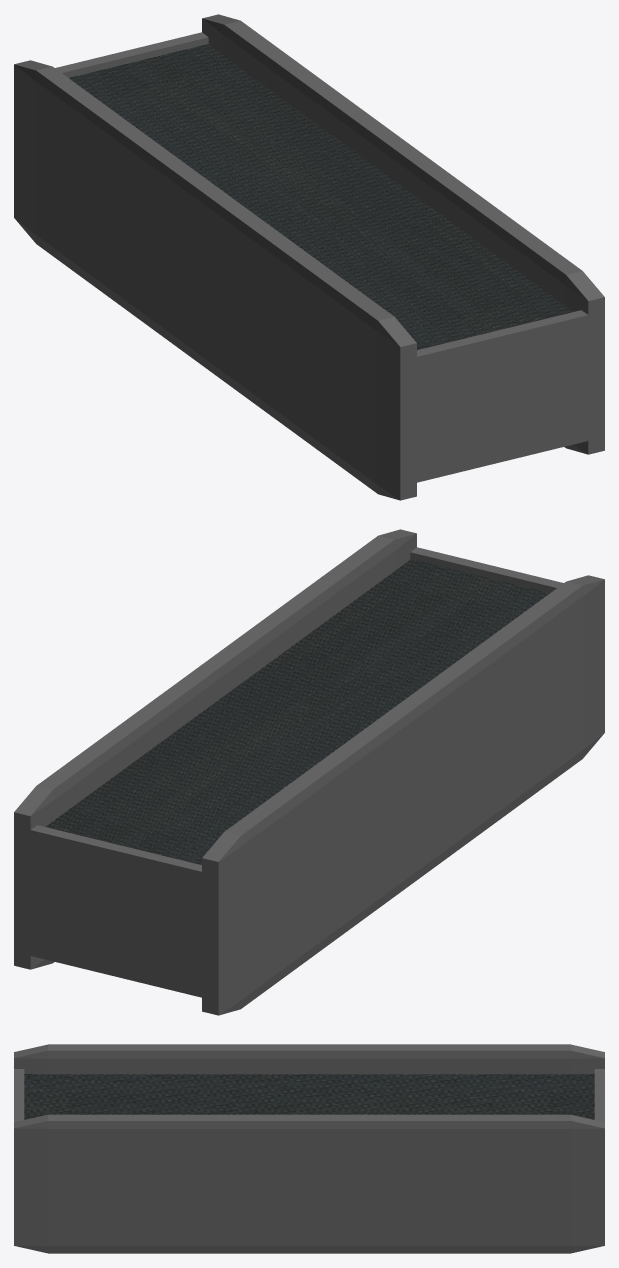
The model's file is Conveyor.fbx.
The picture shows the model from 3 angles, top to bottom: view 1: azimuth 30°, elevation 25°; view 2: azimuth 150°, elevation 25°; view 3: azimuth 270°, elevation 25°; orthographic projection. The views are drawn at different scales.
Parts seen in each view (by area): view 1: Cube, Plane, Cube.002, Cube.001, Cube.003; view 2: Cube, Plane, Cube.003, Cube.001, Cube.002; view 3: Cube.001, Plane, Cube, Cube.002, Cube.003.
Part boxes in pixels (<box>): Cube: <box>14,60,416,500</box>; Plane: <box>69,44,573,349</box>; Cube.002: <box>417,310,588,482</box>; Cube.001: <box>202,14,604,454</box>; Cube.003: <box>55,32,208,77</box>; Cube: <box>202,575,604,1015</box>; Plane: <box>45,559,549,864</box>; Cube.003: <box>30,825,201,997</box>; Cube.001: <box>14,529,416,969</box>; Cube.002: <box>410,547,563,592</box>; Cube.001: <box>14,1114,604,1253</box>; Plane: <box>24,1074,594,1119</box>; Cube: <box>14,1044,604,1074</box>; Cube.002: <box>14,1069,24,1122</box>; Cube.003: <box>594,1069,604,1122</box>.
Size of the model in its own units: 249 by 200 by 808.
2 materials, 1 textured.
